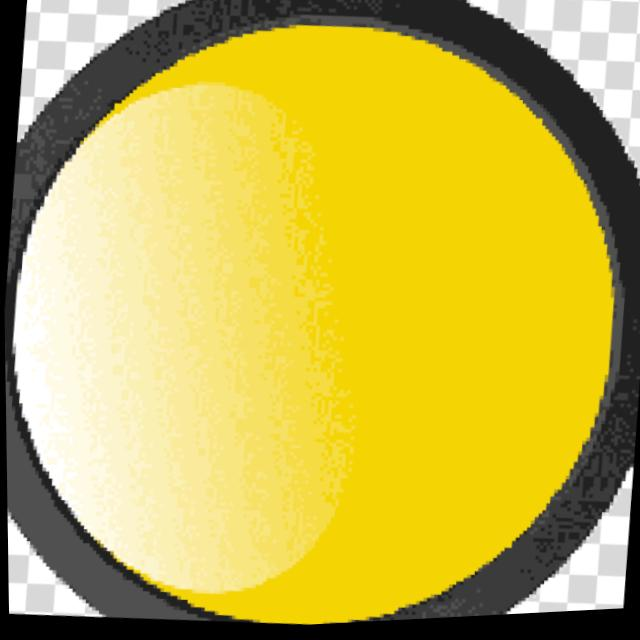yellow_light: (12, 0, 593, 640)
